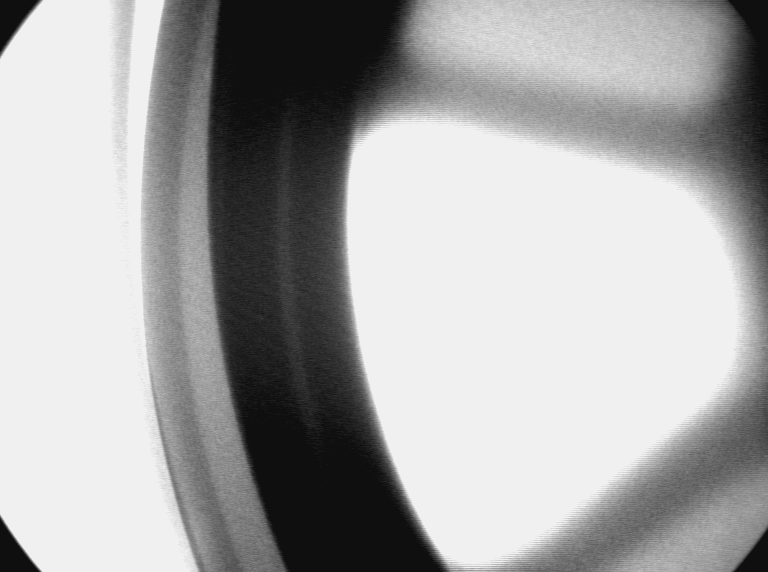defect: (200, 51, 225, 104)
